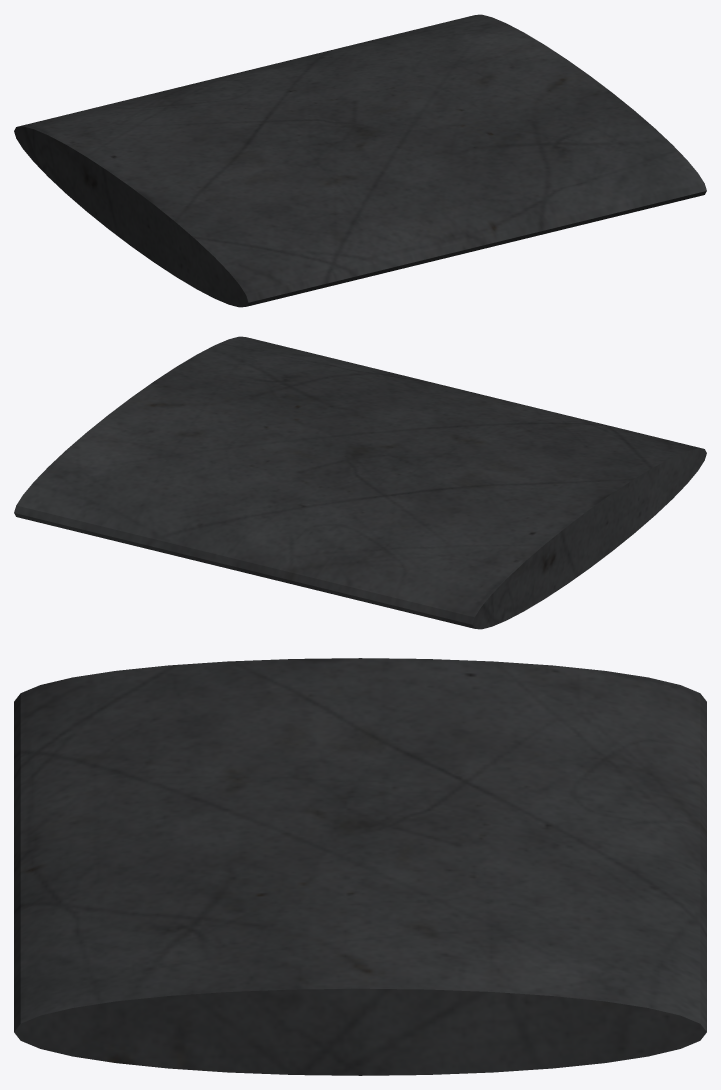
File: frontRightFin.glb
3 renders of one model, top to bottom at view 1: azimuth 30°, elevation 25°; view 2: azimuth 150°, elevation 25°; view 3: azimuth 270°, elevation 25°, orthographic. The views are drawn at different scales.
Visible parts, largest first — view 1: Cylinder.006_Material.001_0; view 2: Cylinder.006_Material.001_0; view 3: Cylinder.006_Material.001_0.
Boxes of the visible parts, x1,y1,x2,y2 form: Cylinder.006_Material.001_0: (14, 14, 706, 307); Cylinder.006_Material.001_0: (14, 336, 706, 629); Cylinder.006_Material.001_0: (14, 658, 706, 1075).
Size of the model in its own units: 87.48 by 10.75 by 77.5.
1 material, 1 textured.
